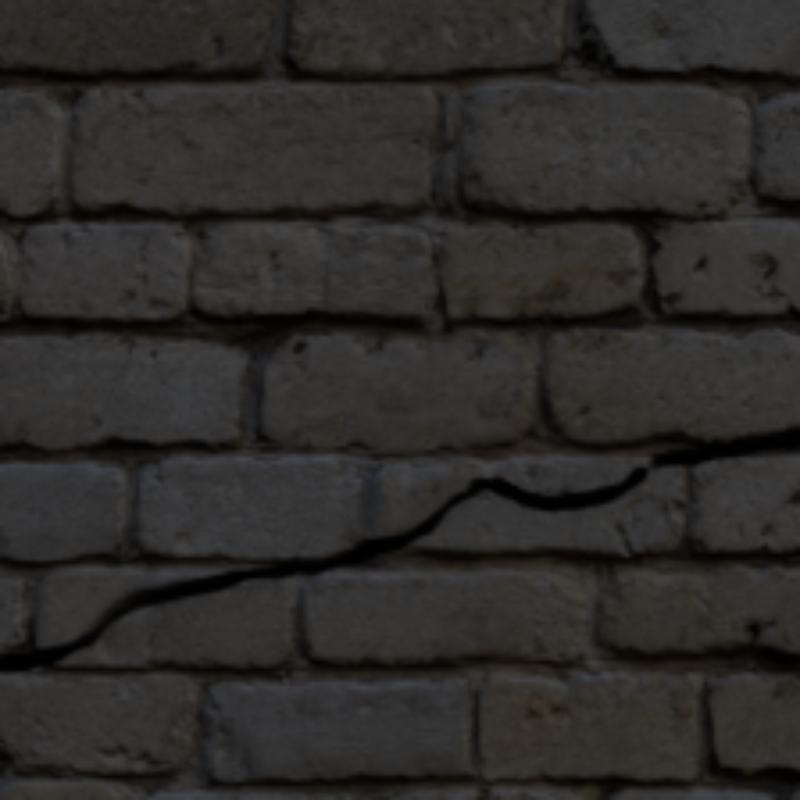pothole: (0, 468, 643, 668), (650, 425, 796, 464)
